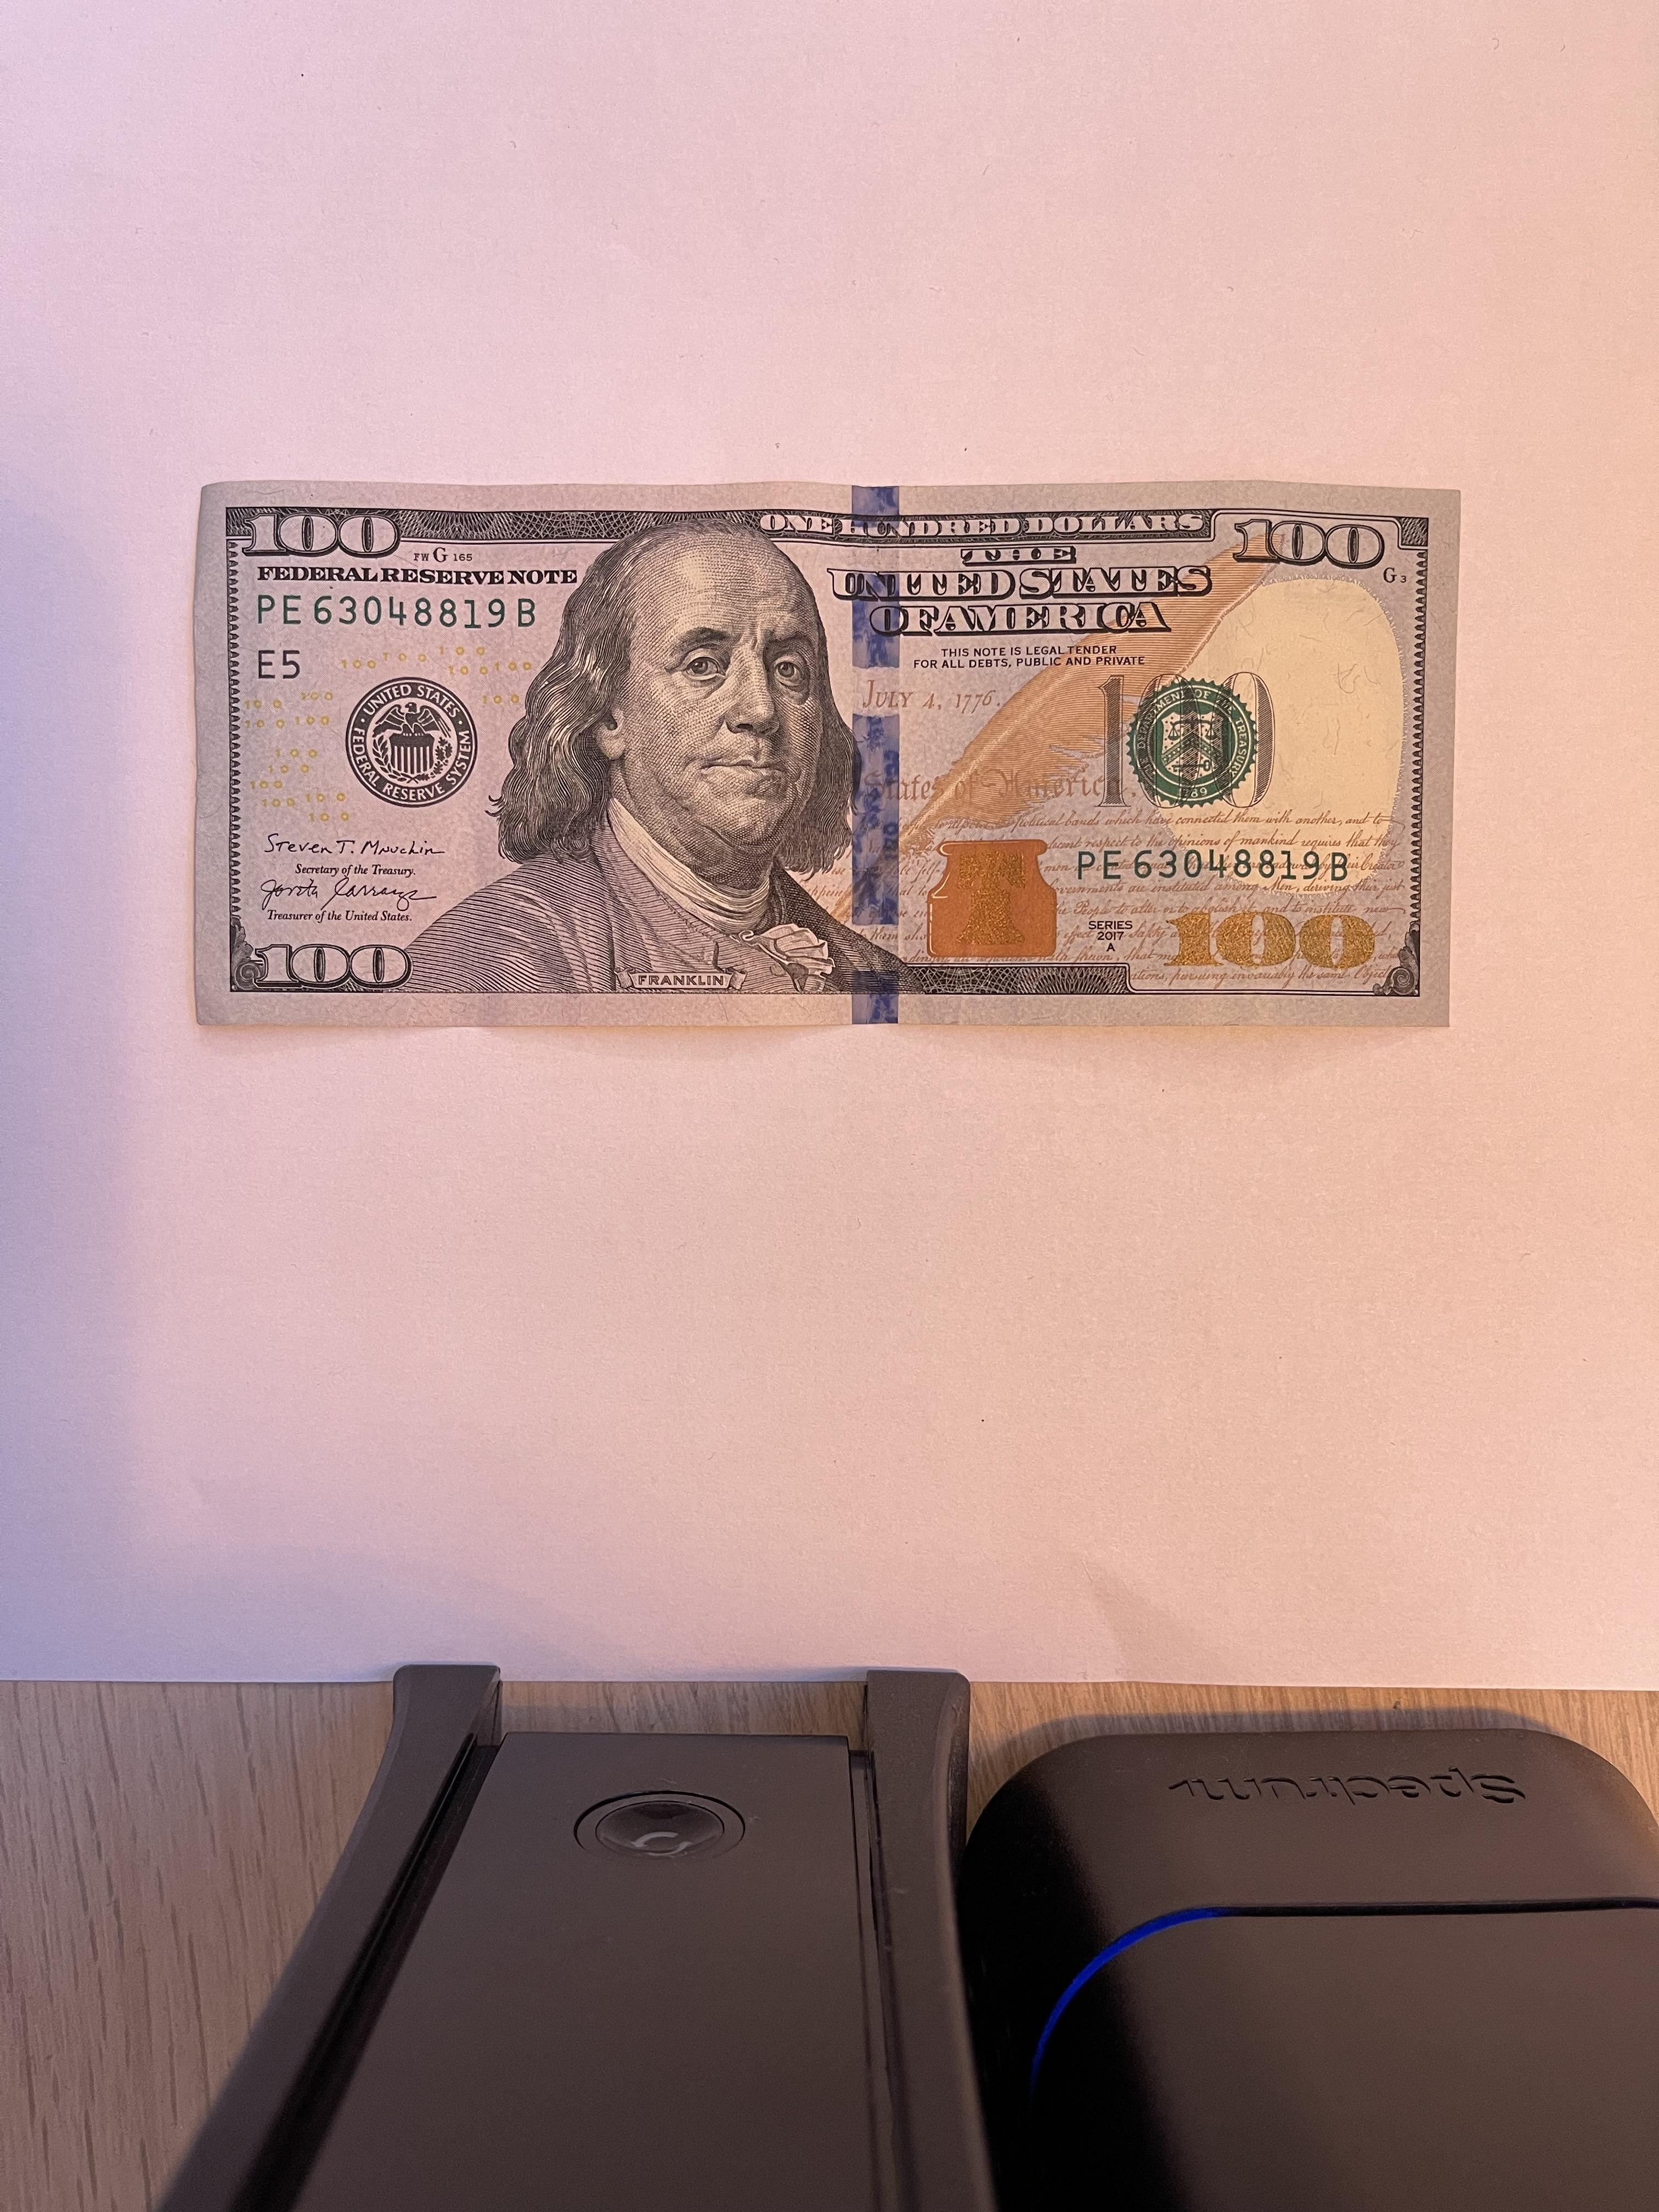HundredBill: (192, 477, 1464, 1031)
